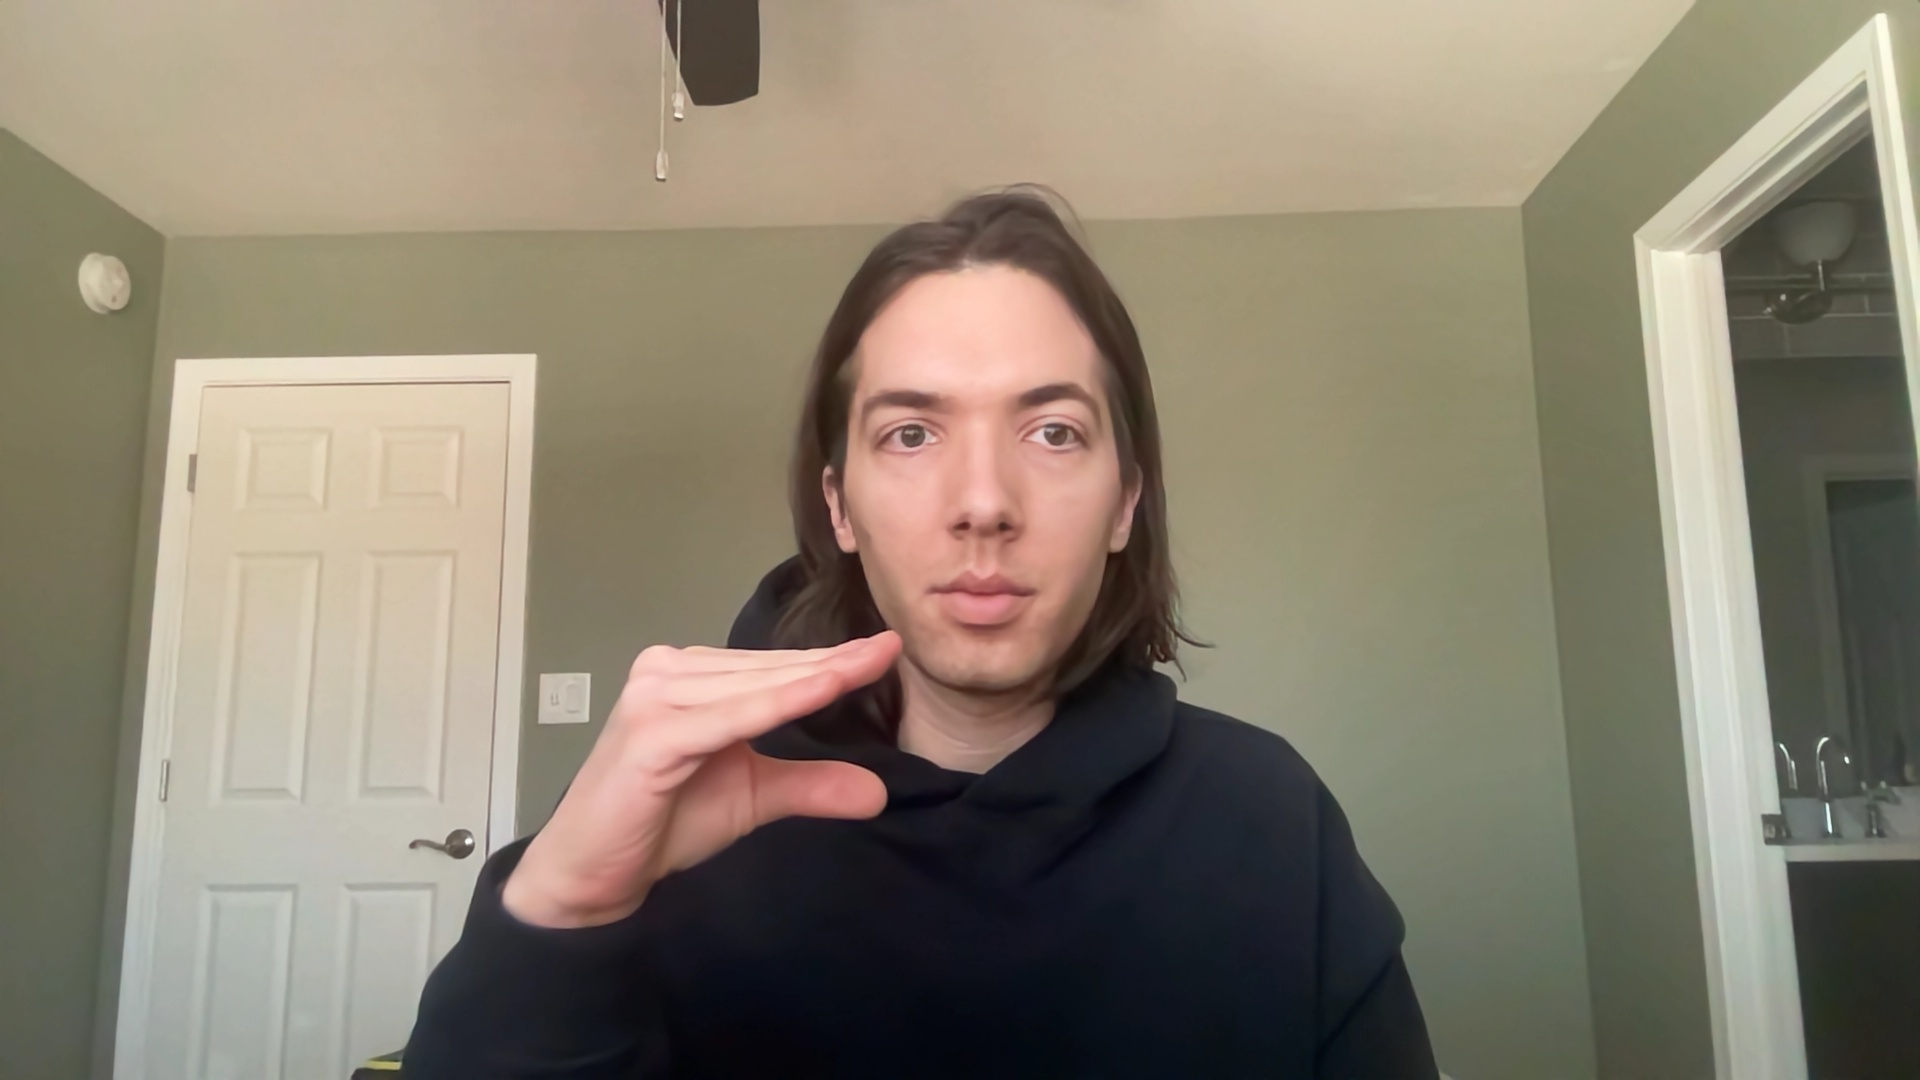No: (465, 611, 924, 932)
